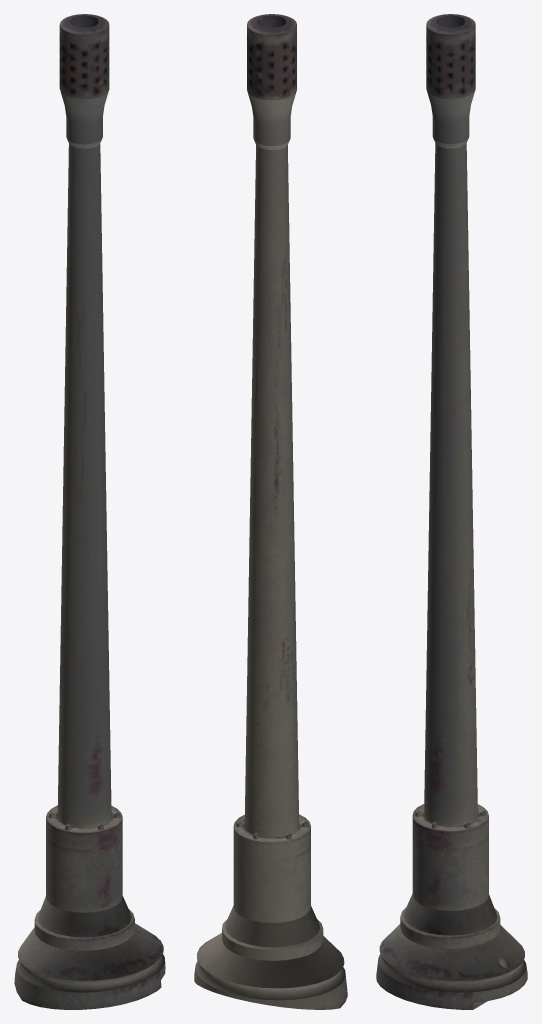
Rendered from Gun_06.glb.
3 renders of one model, left to right at view 1: azimuth 30°, elevation 25°; view 2: azimuth 150°, elevation 25°; view 3: azimuth 330°, elevation 25°, orthographic.
Visible parts, largest first — view 1: set_0_group_0; view 2: set_0_group_0; view 3: set_0_group_0.
Boxes of the visible parts, x1,y1,x2,y2 form: set_0_group_0: (14,14,165,1009); set_0_group_0: (194,14,347,1009); set_0_group_0: (376,14,527,1009).
Size of the model in its own units: 0.7126 by 4.83 by 0.6135.
1 material, 1 textured.
